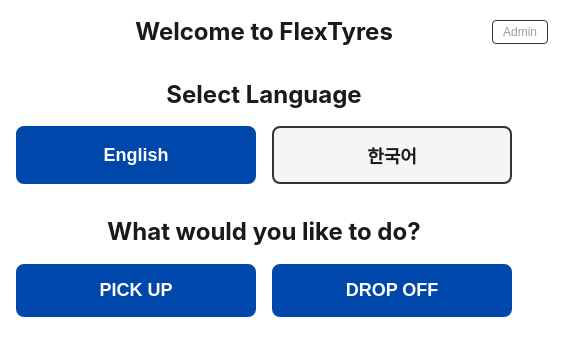
Scenario: Landing Page — Step 0 › switches back to English when English button is clicked after Korean
This screenshot has width=565, height=339.
Step 1. Click the button "한국어" → (392, 155), box x1=272 y1=126 x2=512 y2=184
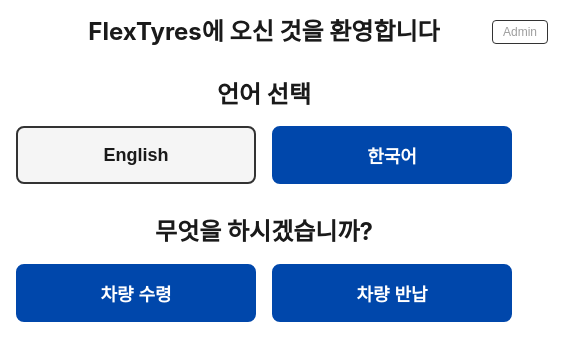
Note: After switching to Korean, the English button text stays "English" per dictionary
Step 2. Click the button "English" → (136, 155), box x1=16 y1=126 x2=256 y2=184
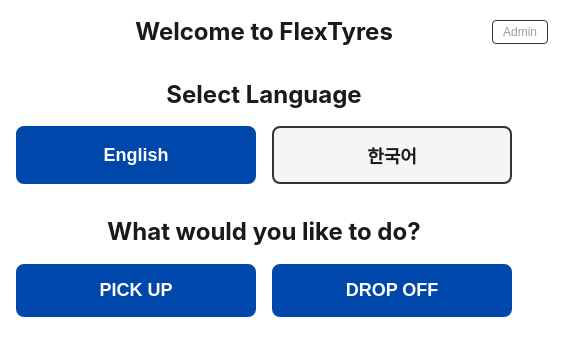
Result: the heading "Welcome to FlexTyres" is shown at x1=135 y1=16 x2=393 y2=47
